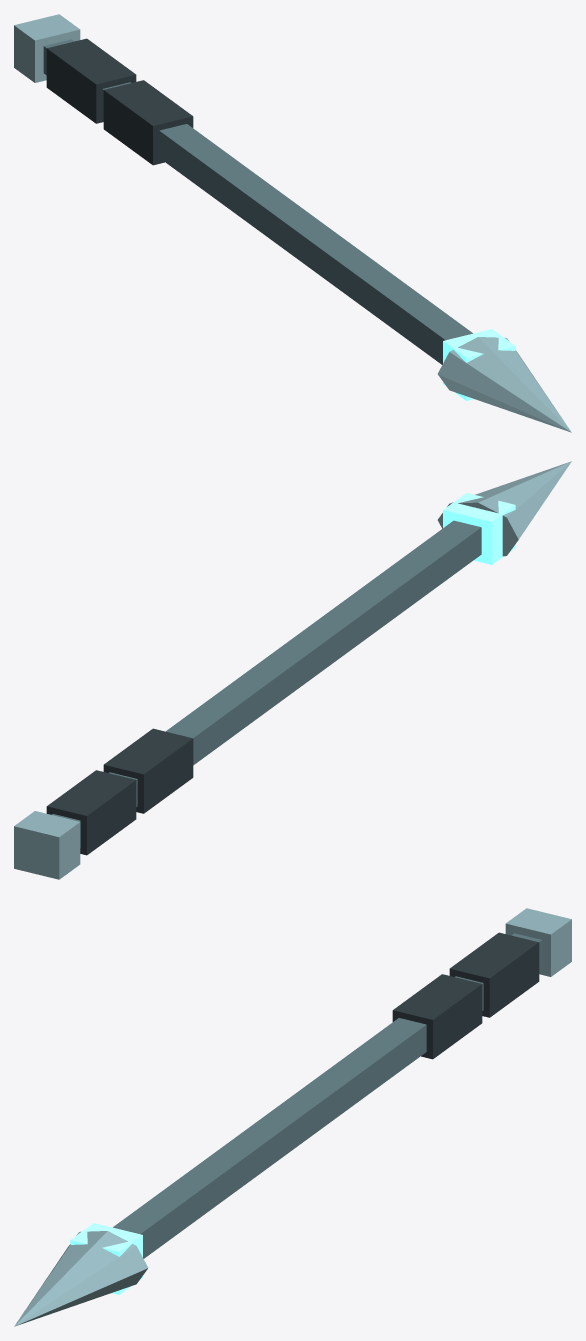
The model's file is field_spear.glb.
3 views of the same model, one above another, from view 1: azimuth 30°, elevation 25°; view 2: azimuth 150°, elevation 25°; view 3: azimuth 330°, elevation 25° (orthographic).
Visible parts, largest first — view 1: Octagonal shaft core, Spear point, Forward hand wrap, Rear hand wrap, End cap, Glowing collar; view 2: Octagonal shaft core, Forward hand wrap, Rear hand wrap, End cap, Spear point, Glowing collar; view 3: Octagonal shaft core, Spear point, Forward hand wrap, Rear hand wrap, End cap, Glowing collar.
Boxes of the visible parts, x1,y1,x2,y2 form: Octagonal shaft core: (43,39,472,364); Spear point: (437,337,571,432); Forward hand wrap: (103,80,193,165); Rear hand wrap: (46,38,136,123); End cap: (14,14,80,82); Glowing collar: (443,329,515,400); Octagonal shaft core: (52,520,481,847); Forward hand wrap: (103,728,193,813); Rear hand wrap: (46,770,136,855); End cap: (14,811,80,879); Spear point: (437,461,571,556); Glowing collar: (443,493,515,564); Octagonal shaft core: (113,933,542,1258); Spear point: (14,1231,148,1326); Forward hand wrap: (392,974,482,1059); Rear hand wrap: (449,932,539,1017); End cap: (505,908,571,976); Glowing collar: (70,1223,142,1294).
Bounding box in the file's own units: 0.19 × 0.1216 × 2.17.
